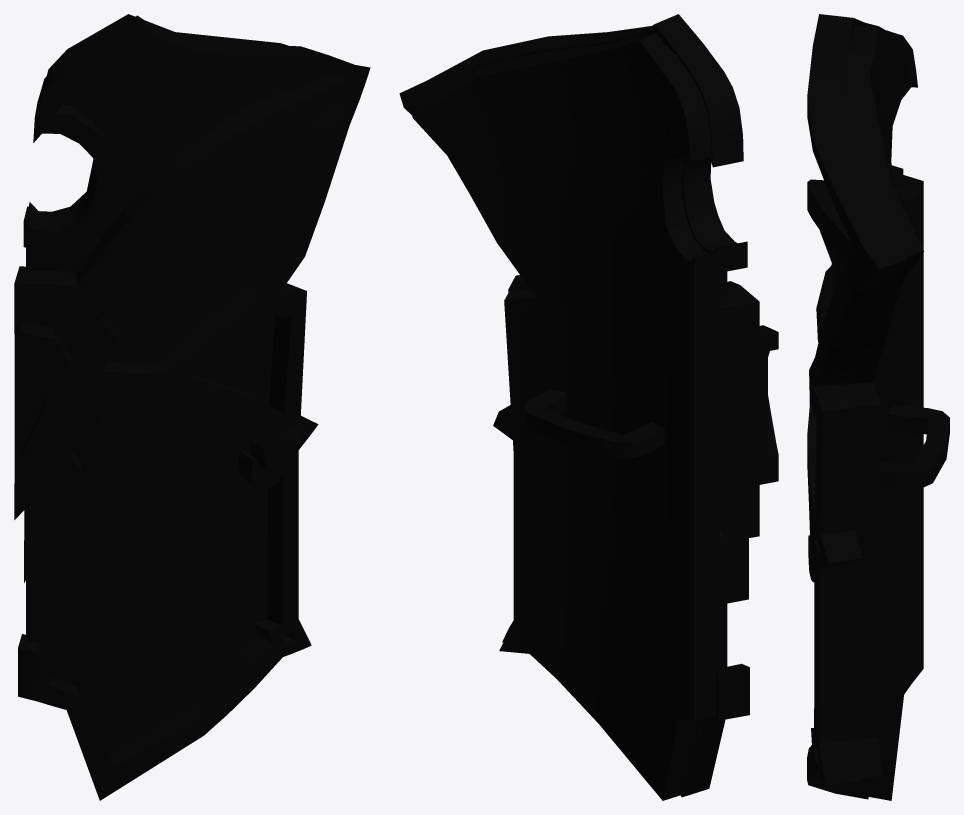
Rendered from Shield_R.fbx.
3 renders of one model, left to right at view 1: azimuth 30°, elevation 25°; view 2: azimuth 150°, elevation 25°; view 3: azimuth 270°, elevation 25°, orthographic. The views are drawn at different scales.
Parts seen in each view (by area): view 1: escudo; view 2: escudo; view 3: escudo.
Part boxes in pixels (x1=…): escudo: x1=14, y1=14, x2=370, y2=800; escudo: x1=399, y1=14, x2=778, y2=800; escudo: x1=807, y1=14, x2=949, y2=800.
Size of the model in its own units: 239 by 478 by 77.3.
